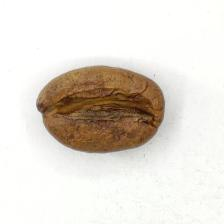NG: (48, 85, 156, 135)
